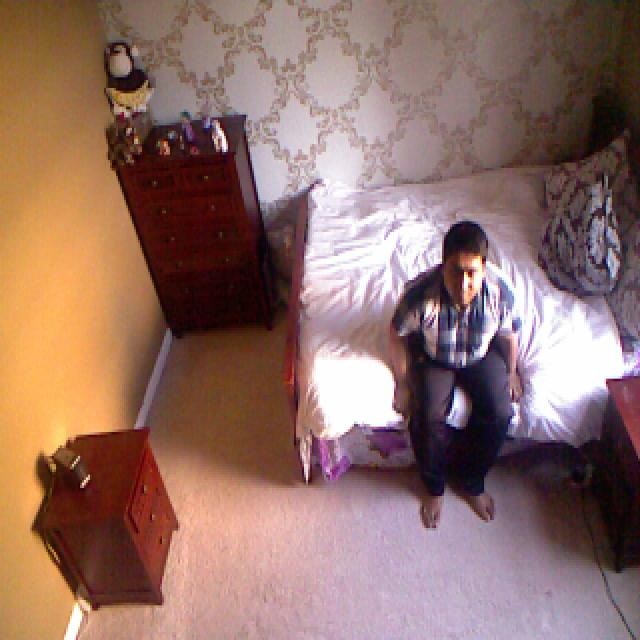sitting: (388, 222, 526, 544)
